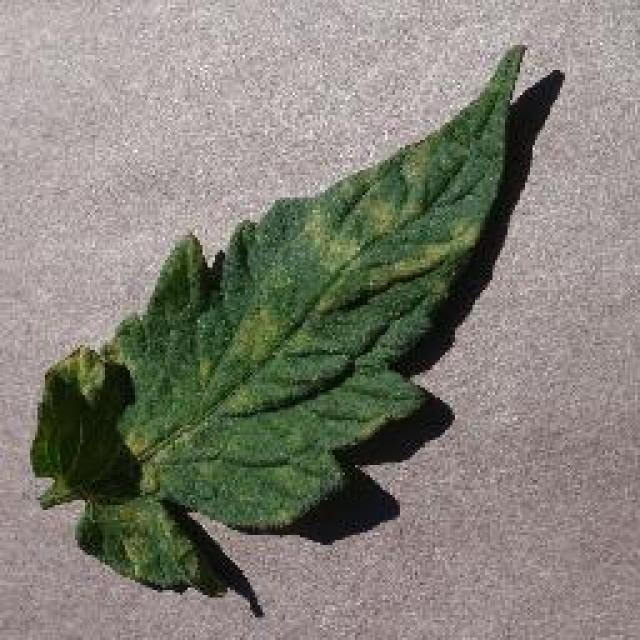Tomato mold leaf: (31, 42, 534, 590)
